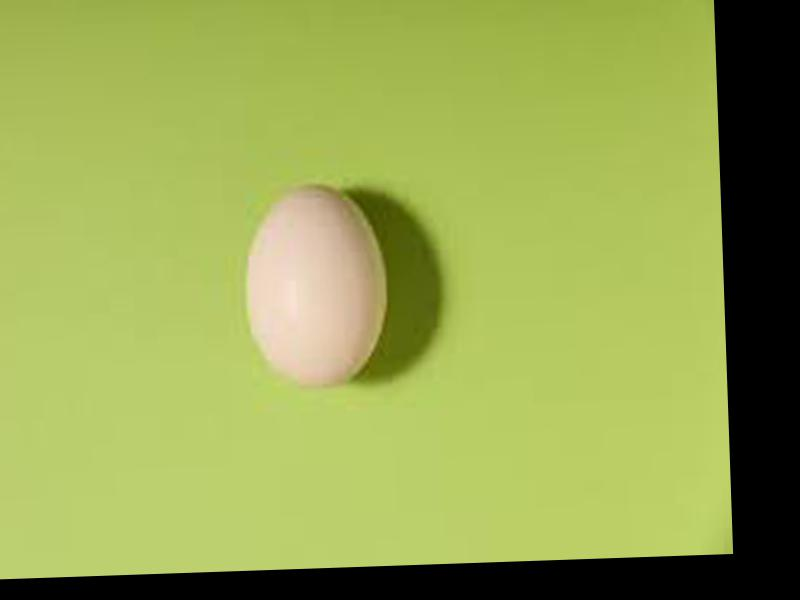Eggs: (246, 178, 390, 389)
